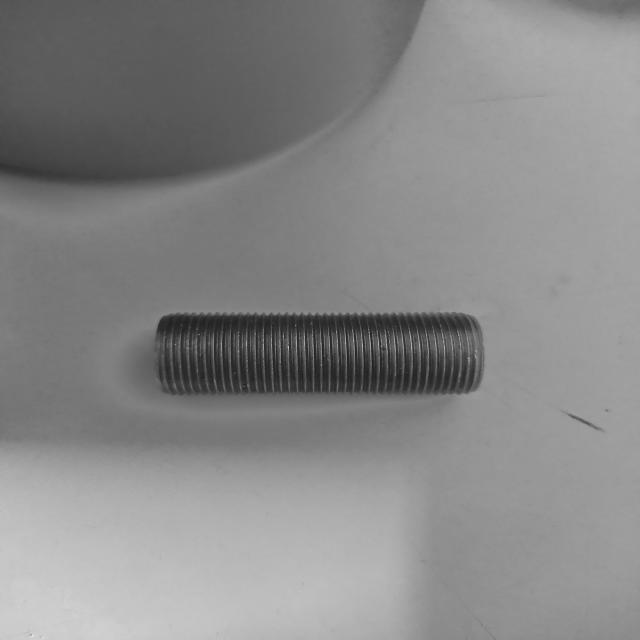Normal: (155, 312, 484, 396)
